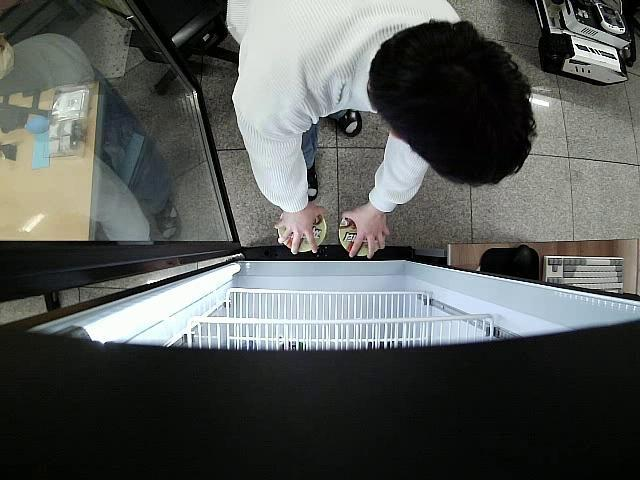03_chapagetti_L: (278, 216, 326, 252), (338, 218, 379, 256)
